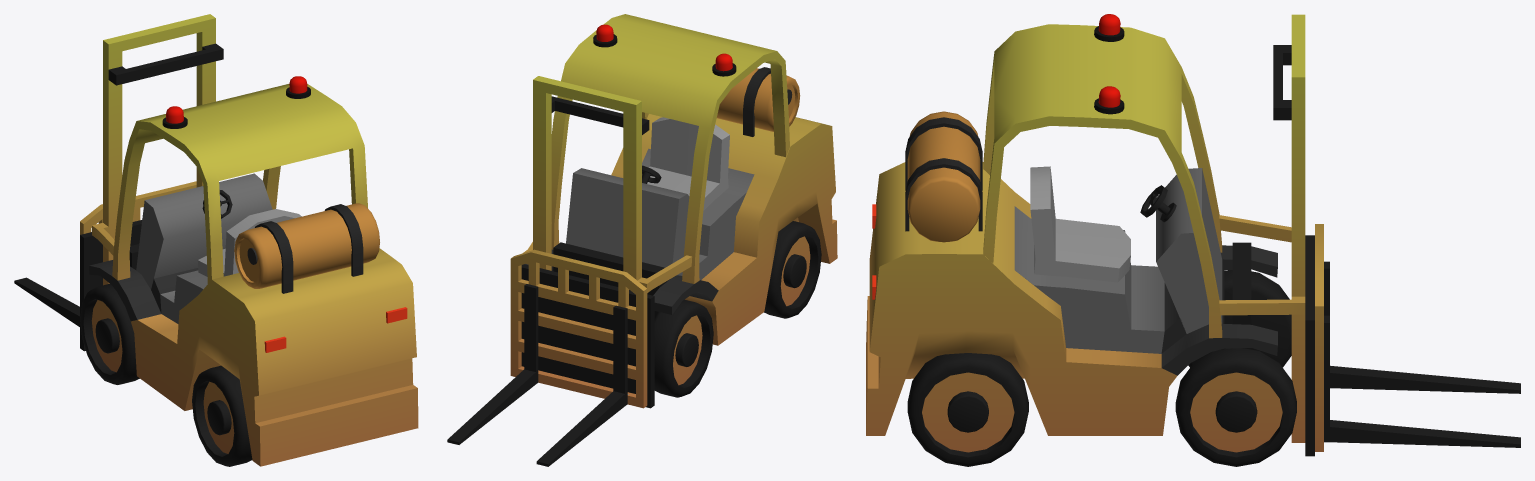
The model's file is Forklift_1.fbx.
3 renders of one model, left to right at view 1: azimuth 30°, elevation 25°; view 2: azimuth 150°, elevation 25°; view 3: azimuth 270°, elevation 25°, orthographic. The views are drawn at different scales.
Visible parts, largest first — view 1: Forklift.003; view 2: Forklift.003; view 3: Forklift.003.
Boxes of the visible parts, box(x1,y1,x2,y2) form: Forklift.003: box(14, 14, 418, 466); Forklift.003: box(447, 14, 837, 466); Forklift.003: box(866, 14, 1520, 466).
Size of the model in its own units: 210 by 392 by 616.
